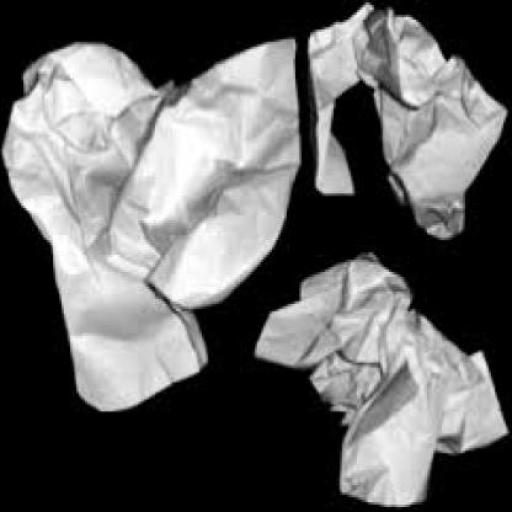paper: (6, 32, 302, 409), (257, 247, 511, 506), (310, 0, 511, 241)
